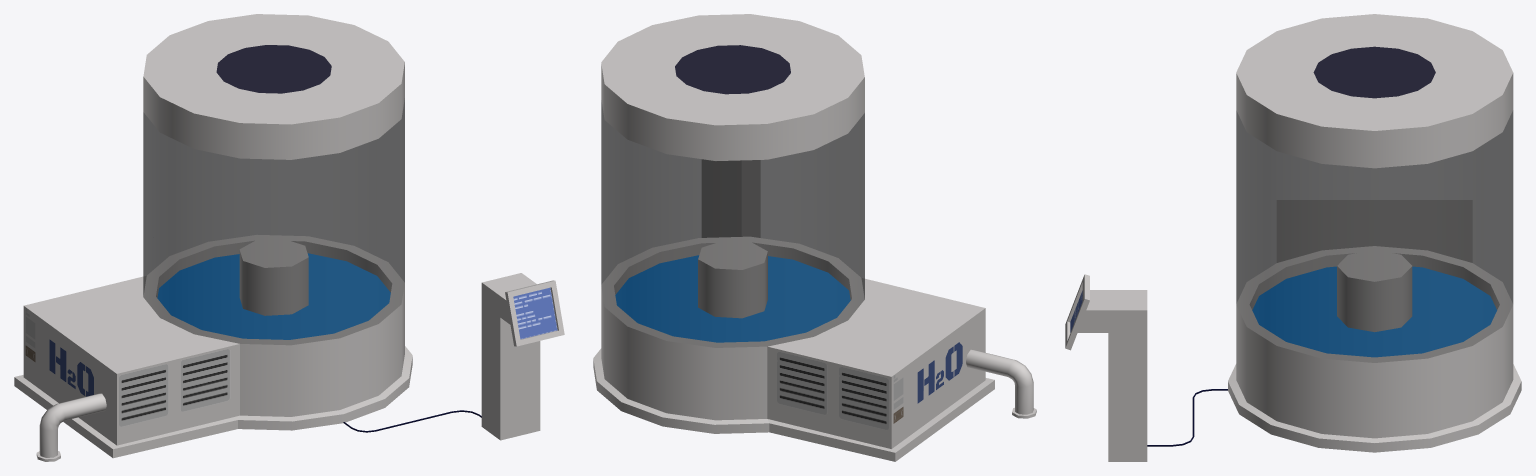
The model's file is h2otank.fbx.
3 views of the same model, side by side, from view 1: azimuth 30°, elevation 25°; view 2: azimuth 150°, elevation 25°; view 3: azimuth 270°, elevation 25° (orthographic). The views are drawn at different scales.
Parts seen in each view (by area): view 1: h2otank; view 2: h2otank; view 3: h2otank.
Boxes of the visible parts, <box> form: h2otank: <box>14,14,564,461</box>; h2otank: <box>593,14,1036,461</box>; h2otank: <box>1065,14,1521,461</box>.
Size of the model in its own units: 5.65 by 3.97 by 5.17.
